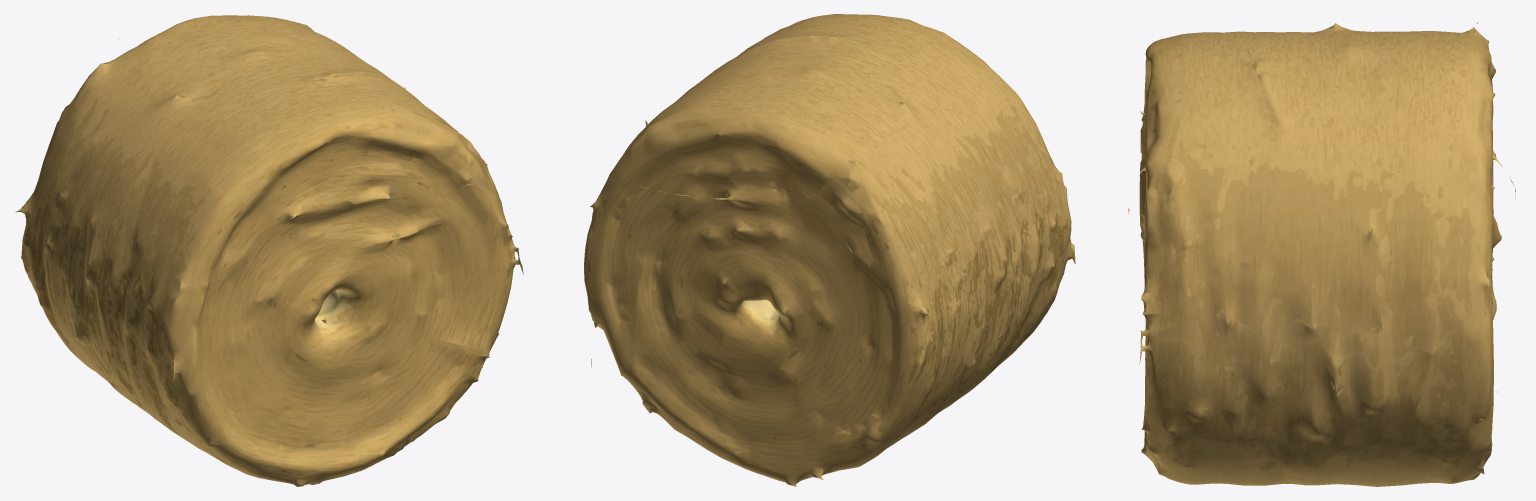
Rendered from HayBaleRound.glb.
The picture shows the model from 3 angles, left to right: view 1: azimuth 30°, elevation 25°; view 2: azimuth 150°, elevation 25°; view 3: azimuth 270°, elevation 25°; orthographic projection. The views are drawn at different scales.
Visible parts, largest first — view 1: HayBaleRound; view 2: HayBaleRound; view 3: HayBaleRound.
Boxes of the visible parts, left/top/right/bottom form: HayBaleRound: left=15, top=15, right=523, bottom=486; HayBaleRound: left=584, top=14, right=1075, bottom=486; HayBaleRound: left=1128, top=22, right=1515, bottom=486.
Bounding box in the file's own units: 1.6 × 1.56 × 1.4.
1 material, 1 textured.
